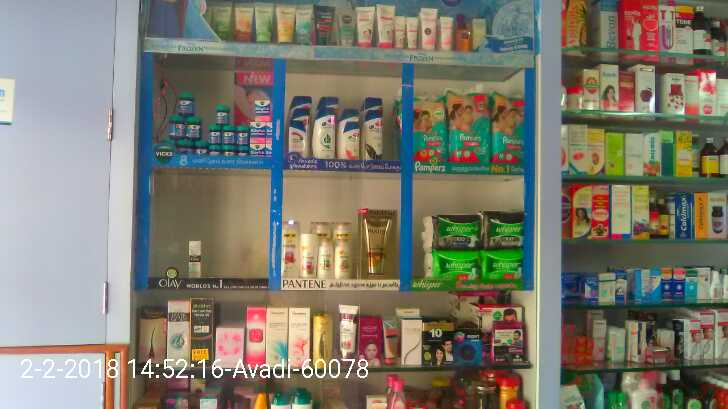vicks: (168, 88, 273, 156)
